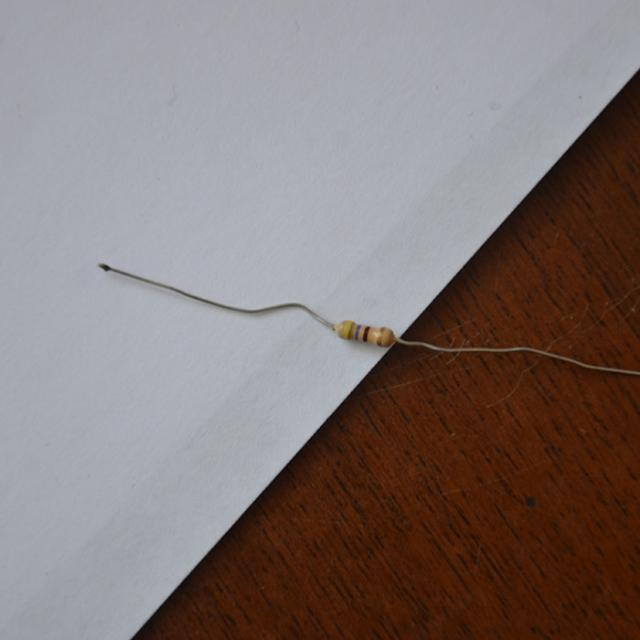brown: (363, 326, 369, 342)
gold: (376, 326, 385, 345)
resistor: (330, 309, 400, 352)
violet: (354, 325, 362, 340)
yellow: (343, 321, 352, 337)
